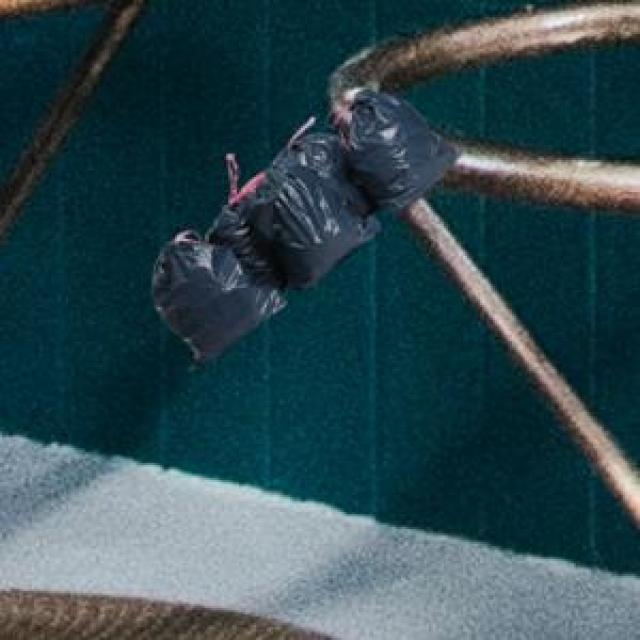miscellaneous trash: (147, 85, 457, 367)
